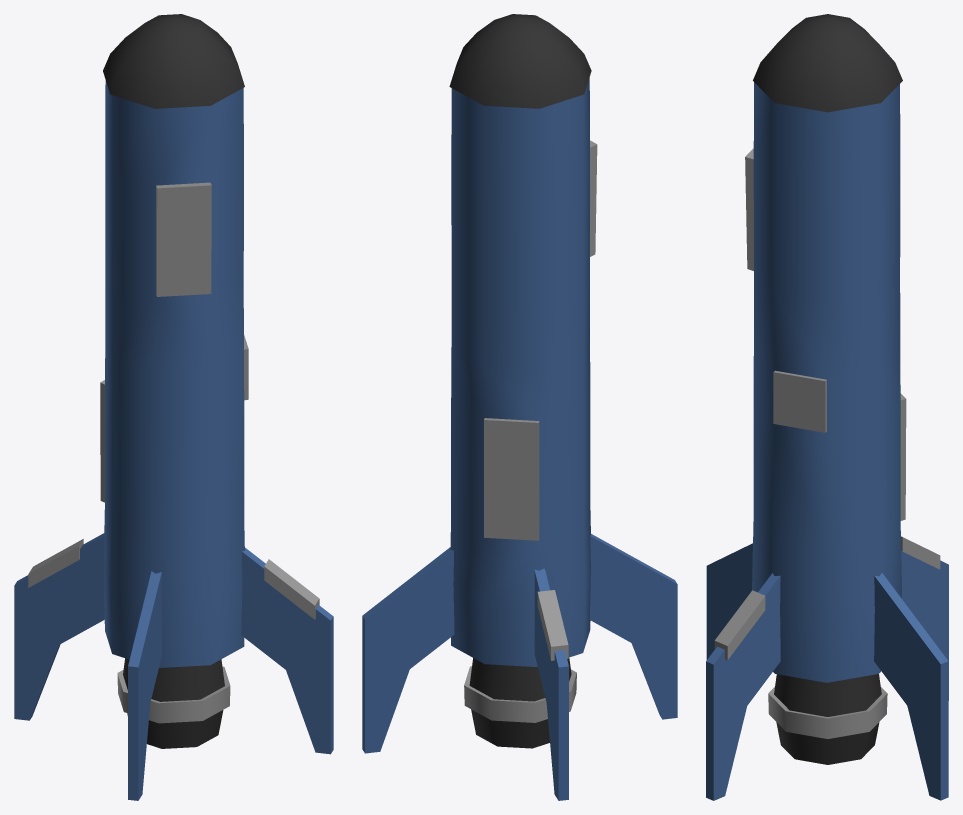
File: dumbfire_Rocket.fbx
The picture shows the model from 3 angles, left to right: view 1: azimuth 30°, elevation 25°; view 2: azimuth 150°, elevation 25°; view 3: azimuth 270°, elevation 25°; orthographic projection. The views are drawn at different scales.
Visible parts, largest first — view 1: Sphere.010; view 2: Sphere.010; view 3: Sphere.010.
Part boxes in pixels (box(x1,y1,x2,y2)): Sphere.010: box(14, 14, 333, 800); Sphere.010: box(362, 14, 677, 800); Sphere.010: box(706, 14, 948, 800).
Size of the model in its own units: 45.66 by 151 by 45.35.
